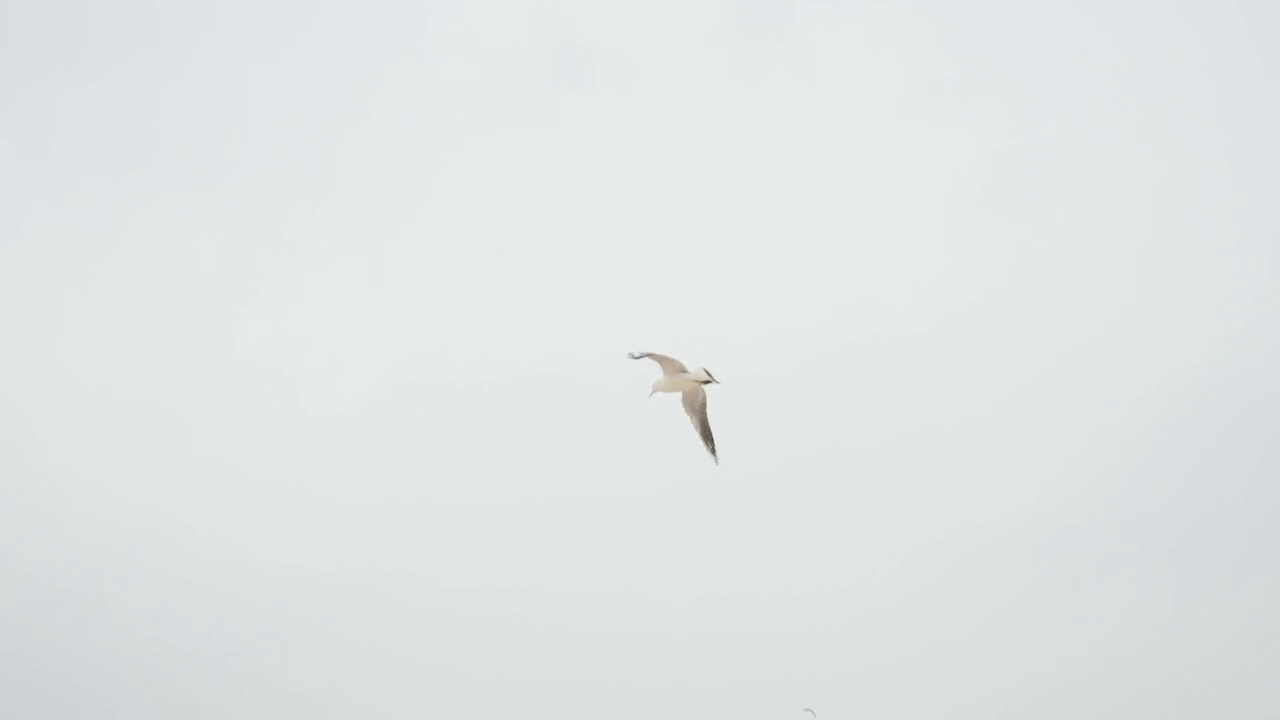bird: (626, 351, 725, 465)
